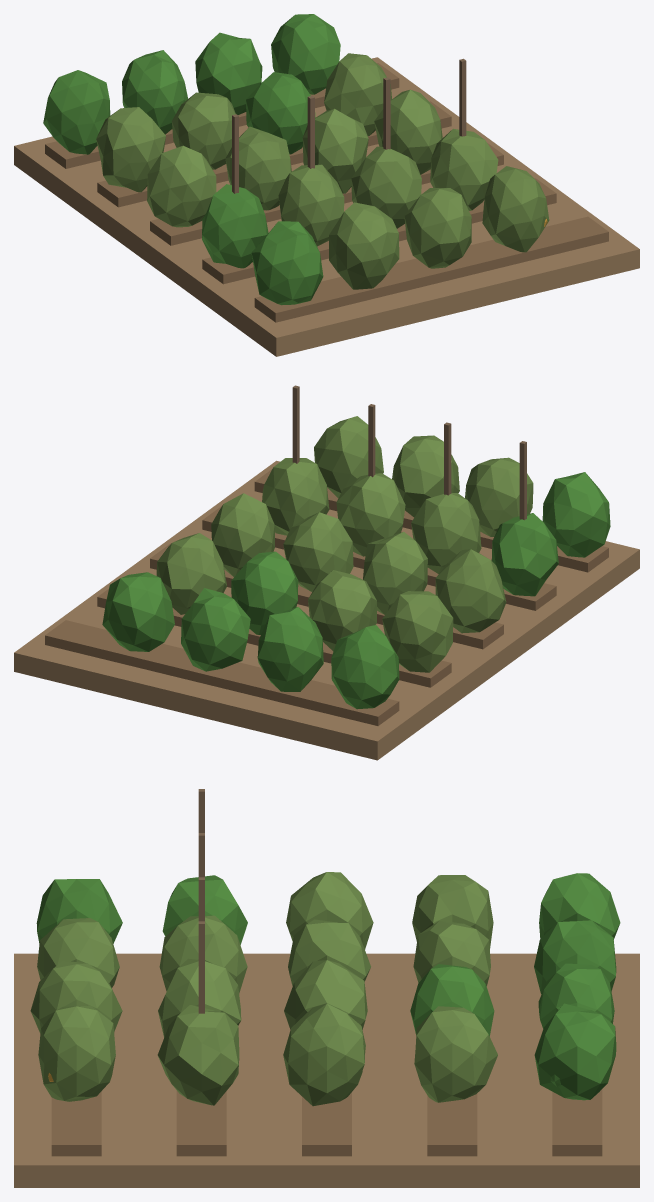
The model's file is sebze-tarhi.glb.
The picture shows the model from 3 angles, top to bottom: view 1: azimuth 30°, elevation 25°; view 2: azimuth 150°, elevation 25°; view 3: azimuth 270°, elevation 25°; orthographic projection. The views are drawn at different scales.
Visible parts, largest first — view 1: yaprak1, toprak, biber, toprak2, ahsap; view 2: yaprak1, biber, toprak, toprak2, ahsap; view 3: toprak, yaprak1, biber, toprak2, ahsap.
Boxes of the visible parts, bbox=[...] form: yaprak1: bbox=[96, 53, 549, 289]; toprak: bbox=[14, 57, 639, 356]; biber: bbox=[43, 14, 340, 305]; toprak2: bbox=[45, 63, 608, 322]; ahsap: bbox=[232, 58, 466, 193]; yaprak1: bbox=[156, 416, 533, 672]; biber: bbox=[102, 472, 610, 709]; toprak: bbox=[14, 460, 639, 760]; toprak2: bbox=[45, 469, 608, 725]; ahsap: bbox=[292, 385, 526, 520]; toprak: bbox=[14, 953, 639, 1187]; yaprak1: bbox=[30, 872, 497, 1106]; biber: bbox=[36, 873, 620, 1100]; toprak2: bbox=[51, 1089, 602, 1156]; ahsap: bbox=[198, 789, 204, 1013].
Size of the model in its own units: 2.4 by 1.1 by 3.
